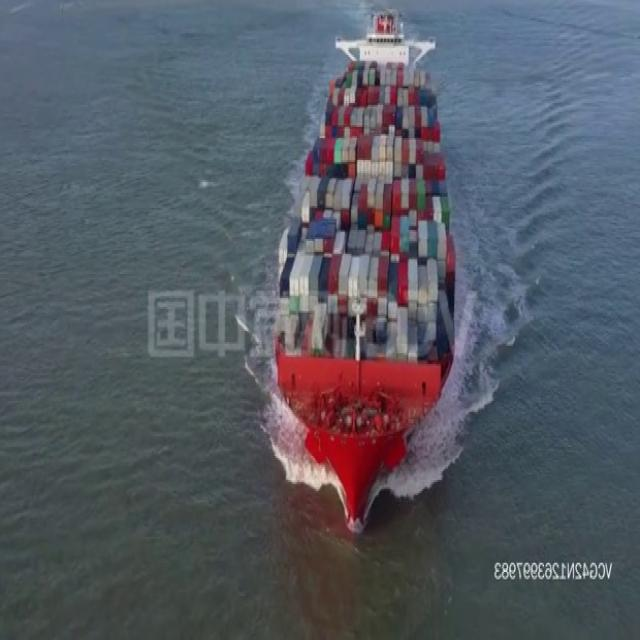cargoship: (275, 5, 456, 534)
